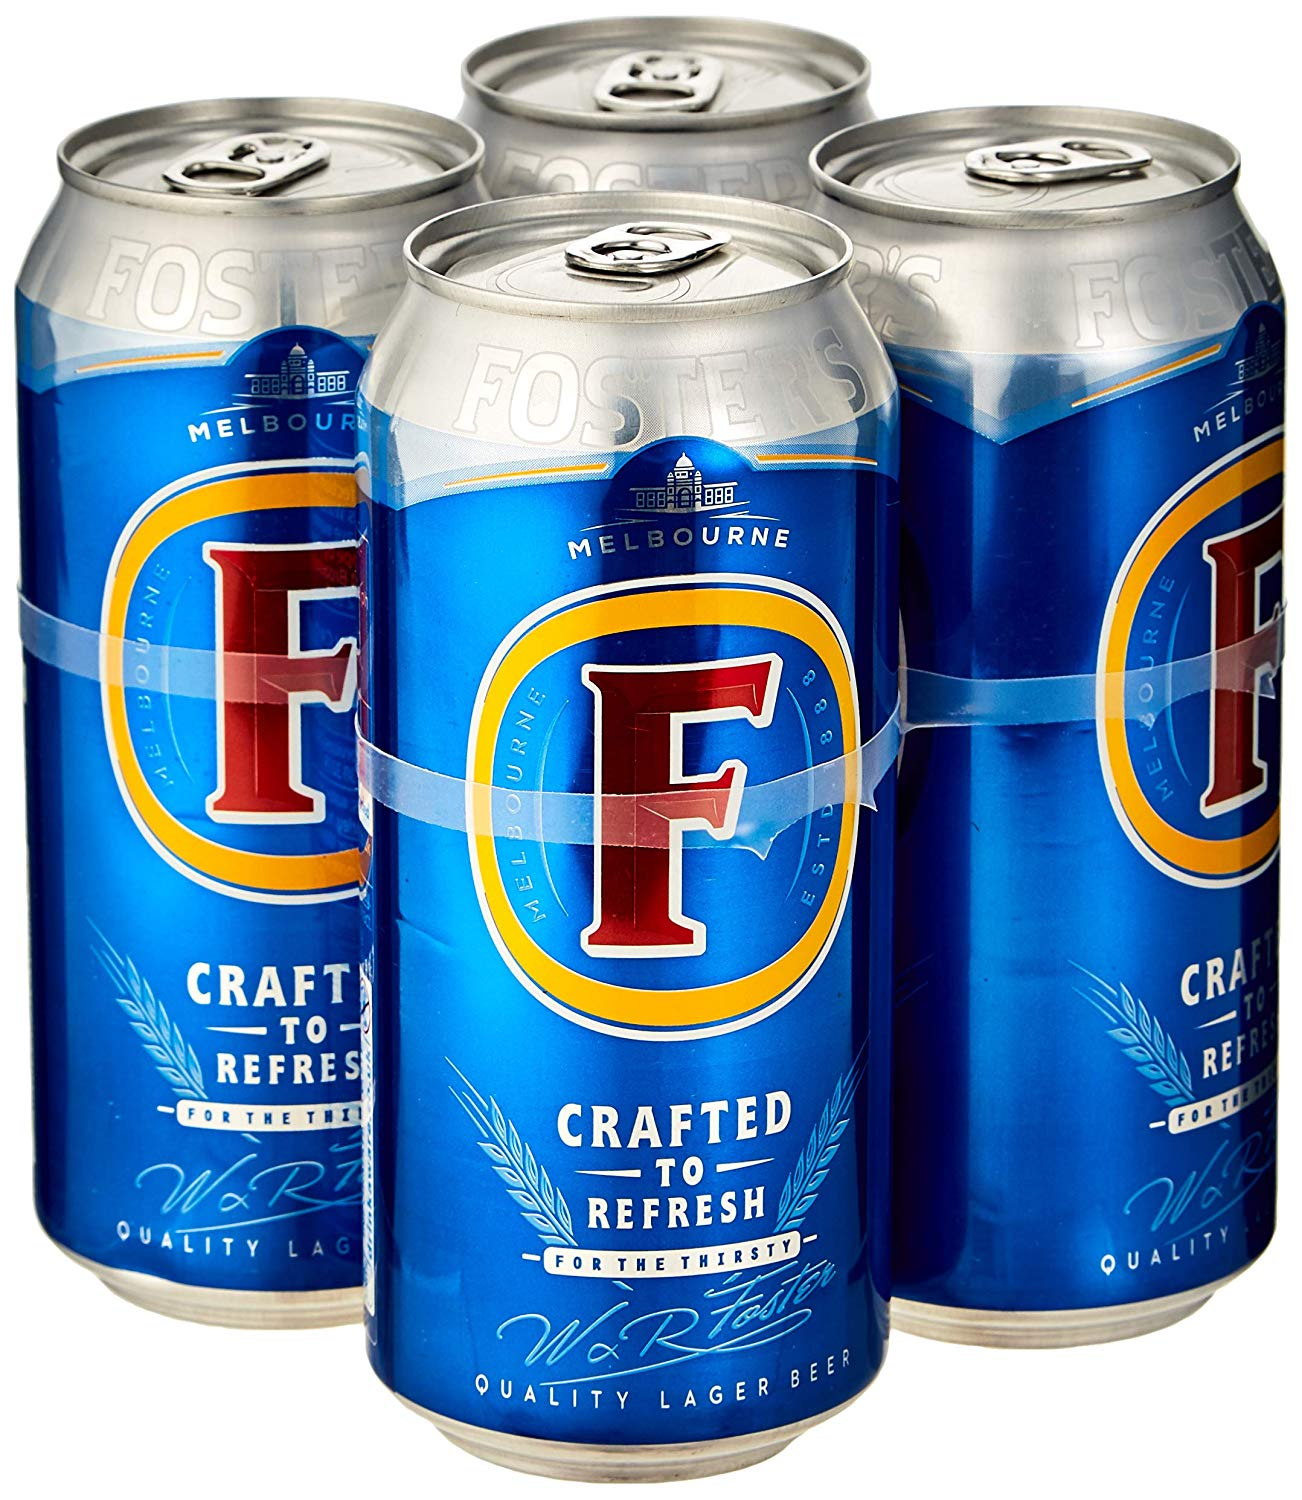beer can: (391, 193, 891, 1474), (803, 101, 1302, 1347), (19, 94, 487, 1328)
